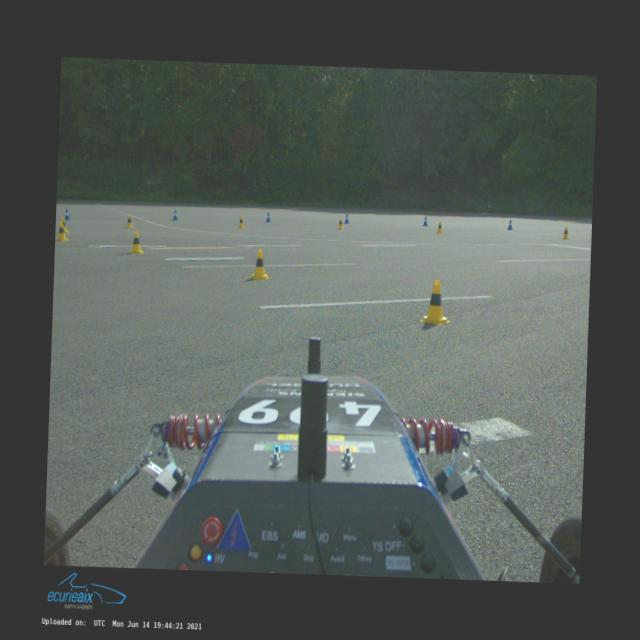blue_cone: (64, 208, 70, 220), (422, 215, 428, 226), (343, 214, 349, 224), (264, 212, 270, 222), (172, 210, 178, 220), (507, 219, 512, 230)
yellow_cone: (420, 280, 451, 324), (250, 248, 270, 280), (129, 230, 144, 253), (56, 221, 70, 241), (60, 217, 70, 232), (125, 214, 135, 228), (561, 226, 569, 239), (436, 220, 444, 232), (238, 215, 245, 228), (337, 217, 344, 229)
